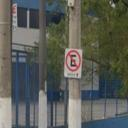NoEstacionar: (64, 48, 82, 74)
